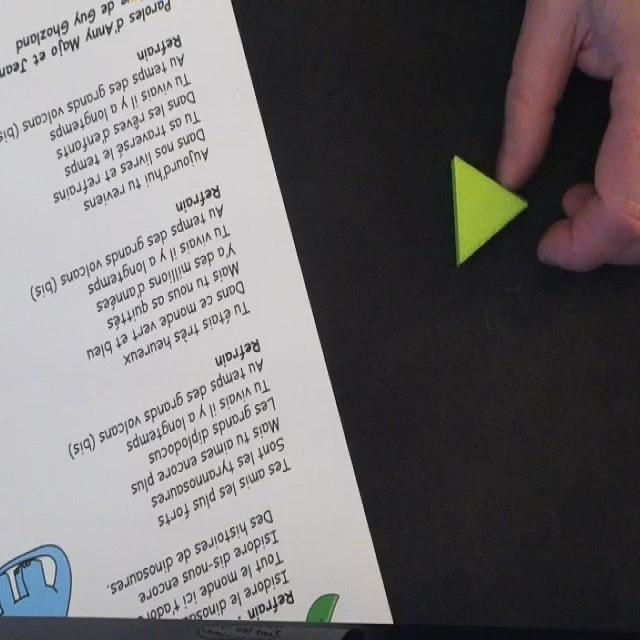triangle: (451, 154, 529, 269)
